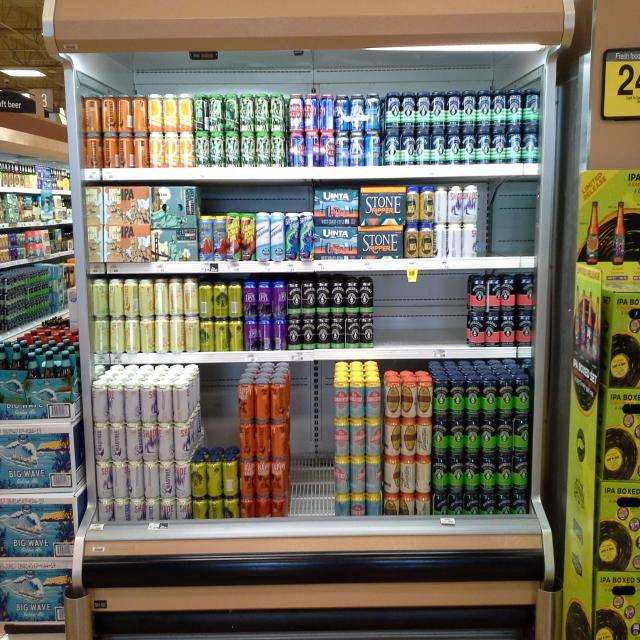void: (378, 274, 464, 342), (294, 364, 331, 518), (482, 180, 534, 253)
